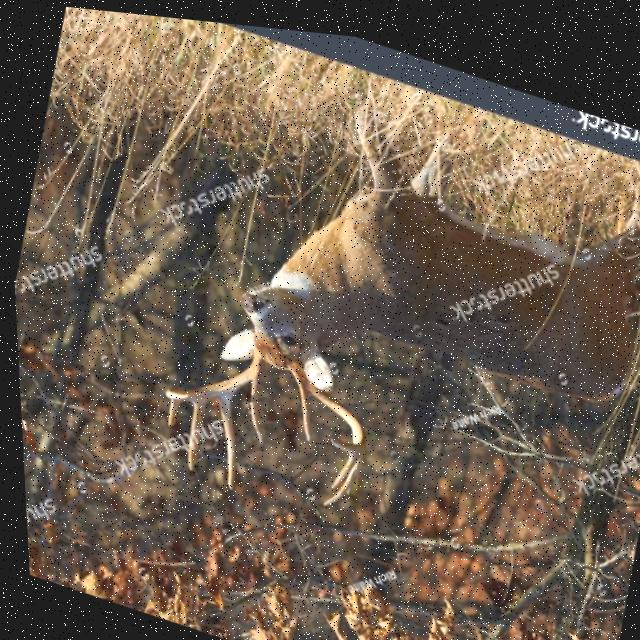L-F: (161, 344, 262, 399)
L-G1: (246, 371, 258, 439)
L-G2: (214, 391, 230, 484)
L-G3: (182, 398, 201, 467)
L-G4: (163, 395, 176, 423)
R-F: (285, 352, 362, 448)
R-G1: (295, 383, 306, 435)
R-G4: (326, 445, 355, 481)
